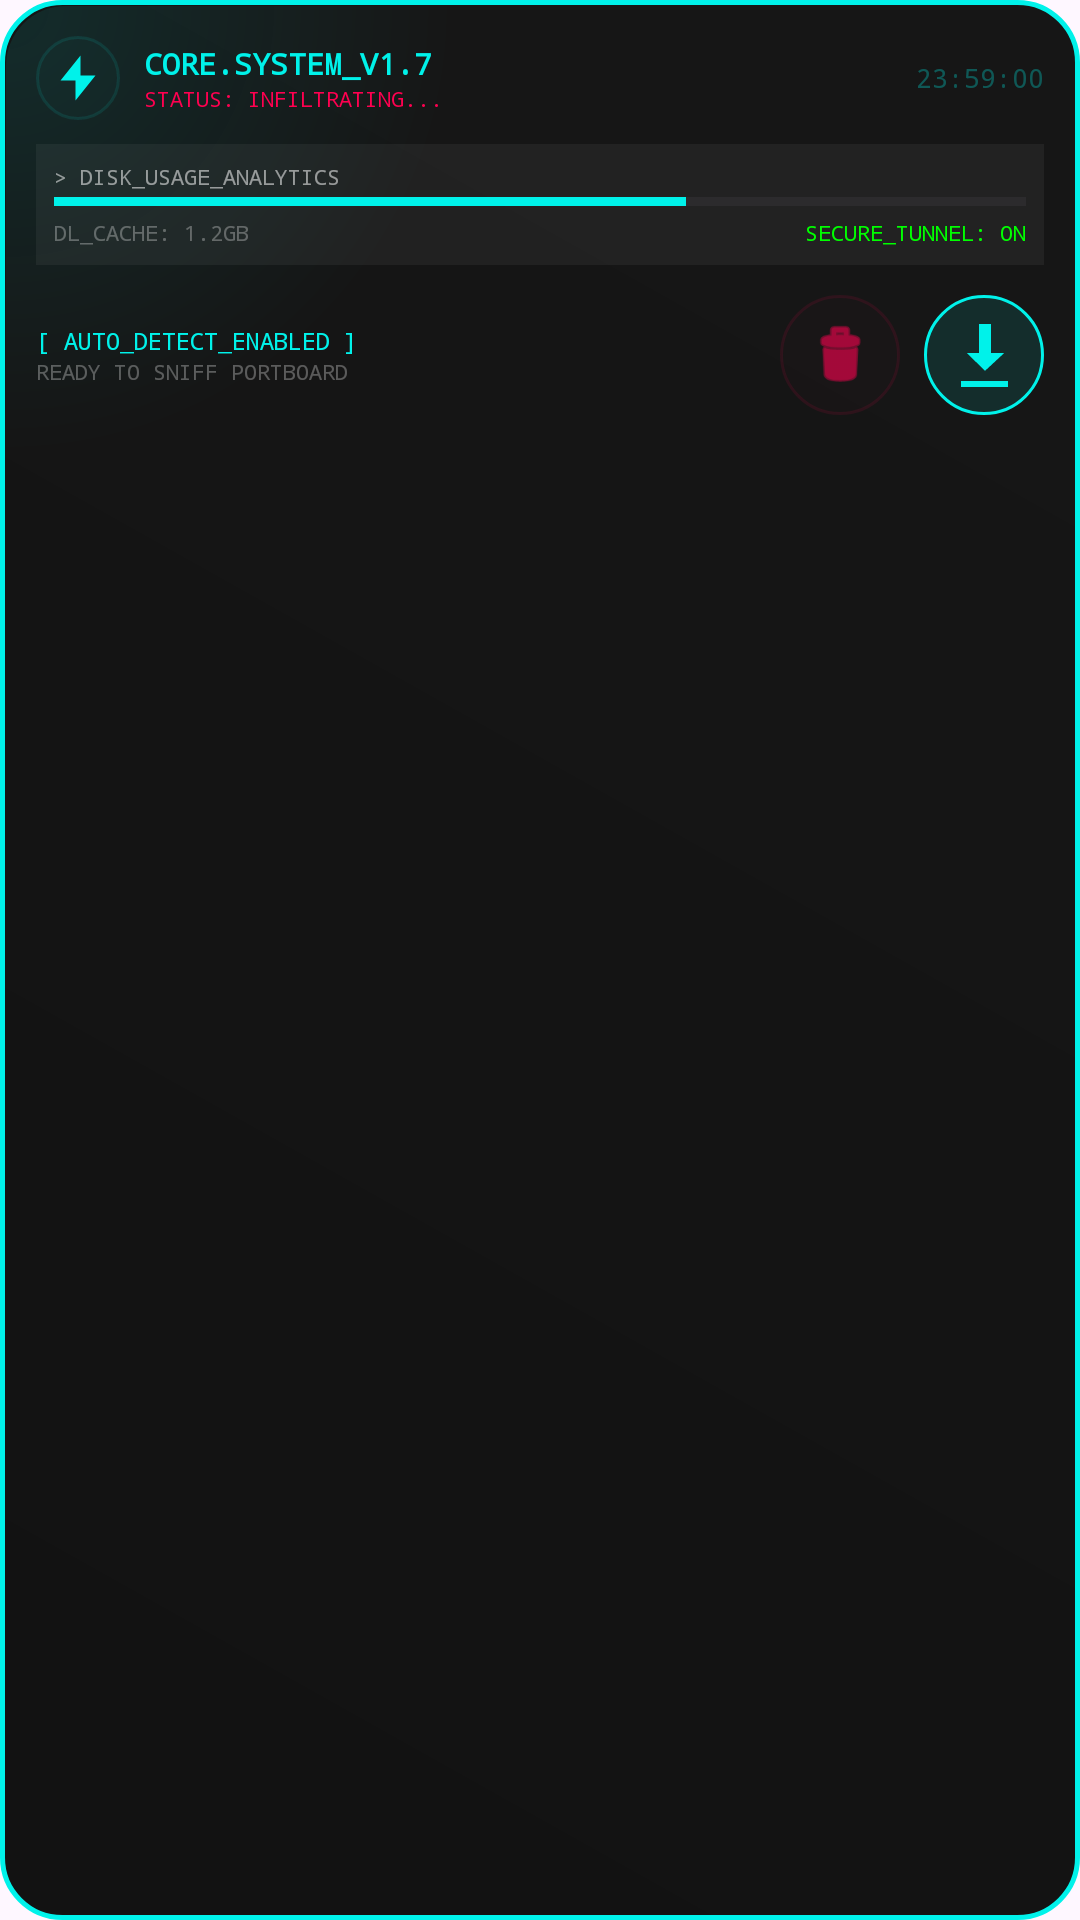

Where icons sit on this 1080w x 1920h app screen, as [left=x1, top=y1, right=x2, bottom=y2]:
bolt cyan: [left=37, top=37, right=118, bottom=118]
delete: [left=780, top=295, right=899, bottom=414]
download: [left=924, top=295, right=1044, bottom=415]
